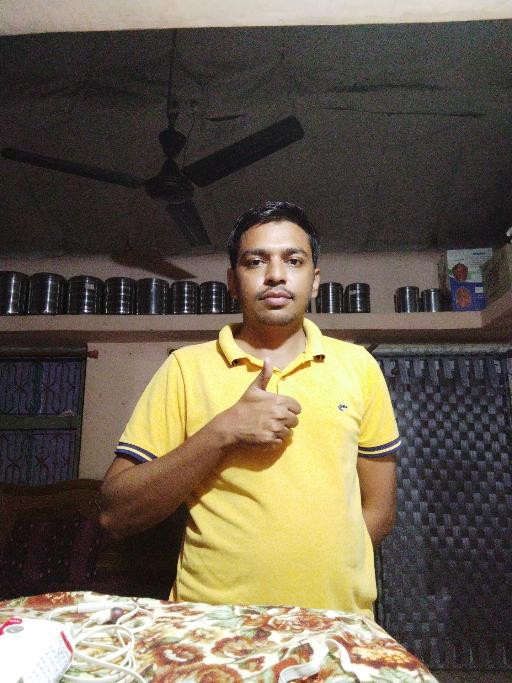like: (227, 355, 304, 453)
